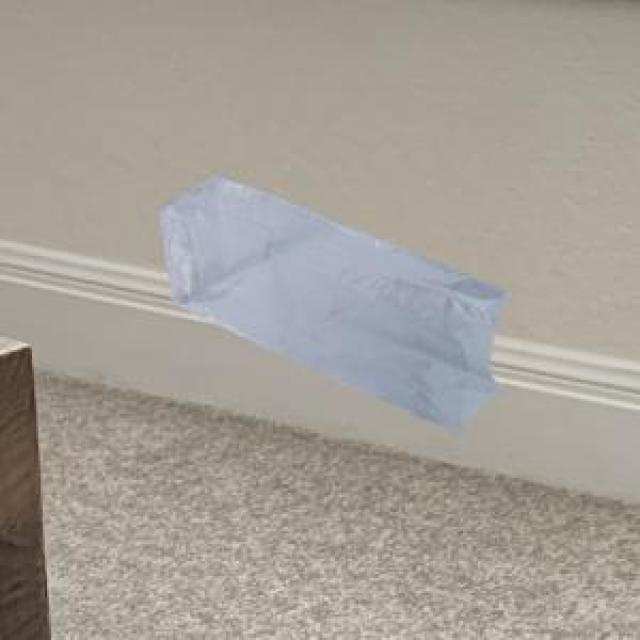plastic: (106, 138, 554, 460)
